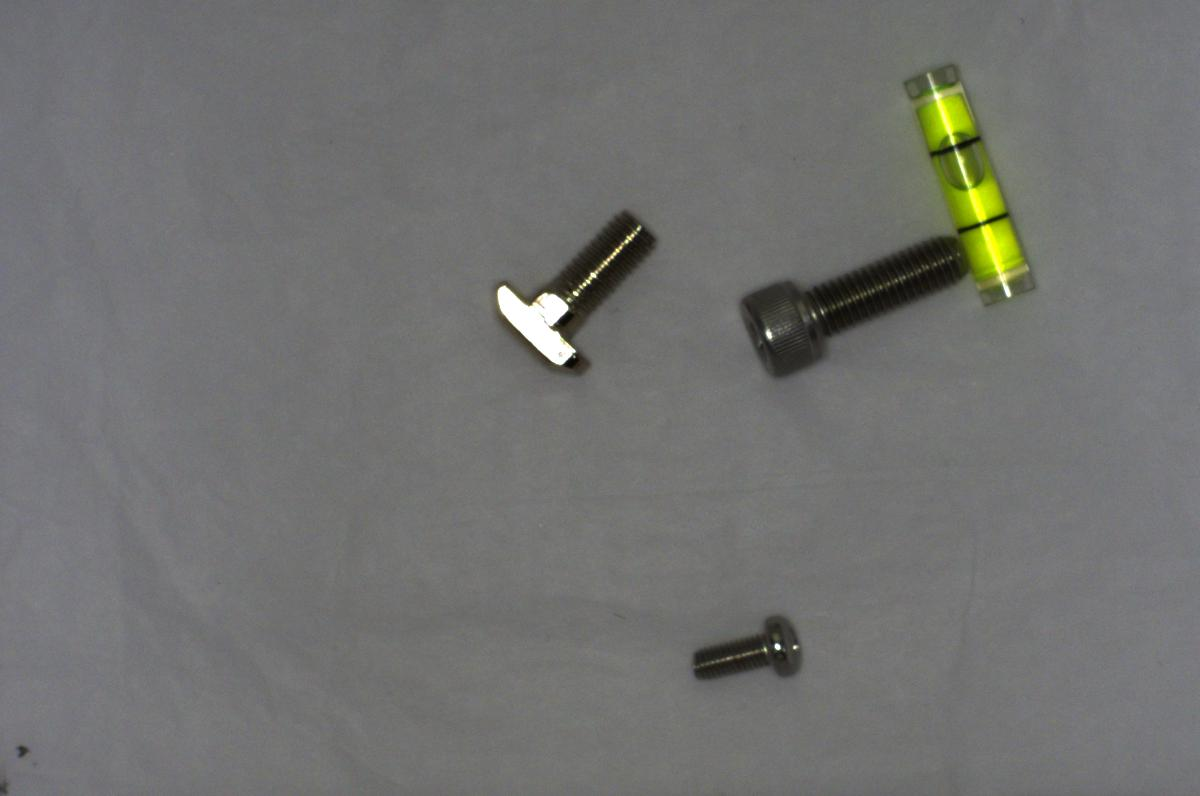Hexagon screw: (738, 229, 973, 382)
Horizontal bubble: (901, 56, 1039, 302)
Round head screw: (688, 605, 811, 694)
T-shaped screw: (488, 210, 654, 376)
